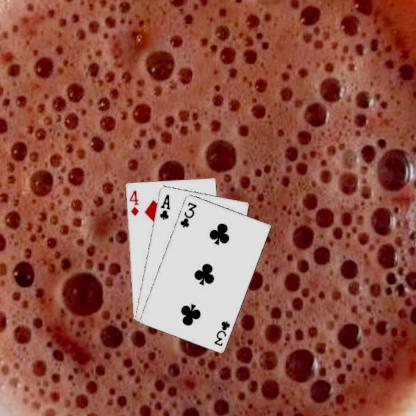3C: (178, 199, 198, 229), (211, 318, 231, 347)
4D: (127, 187, 140, 217)
AC: (157, 191, 171, 221)
